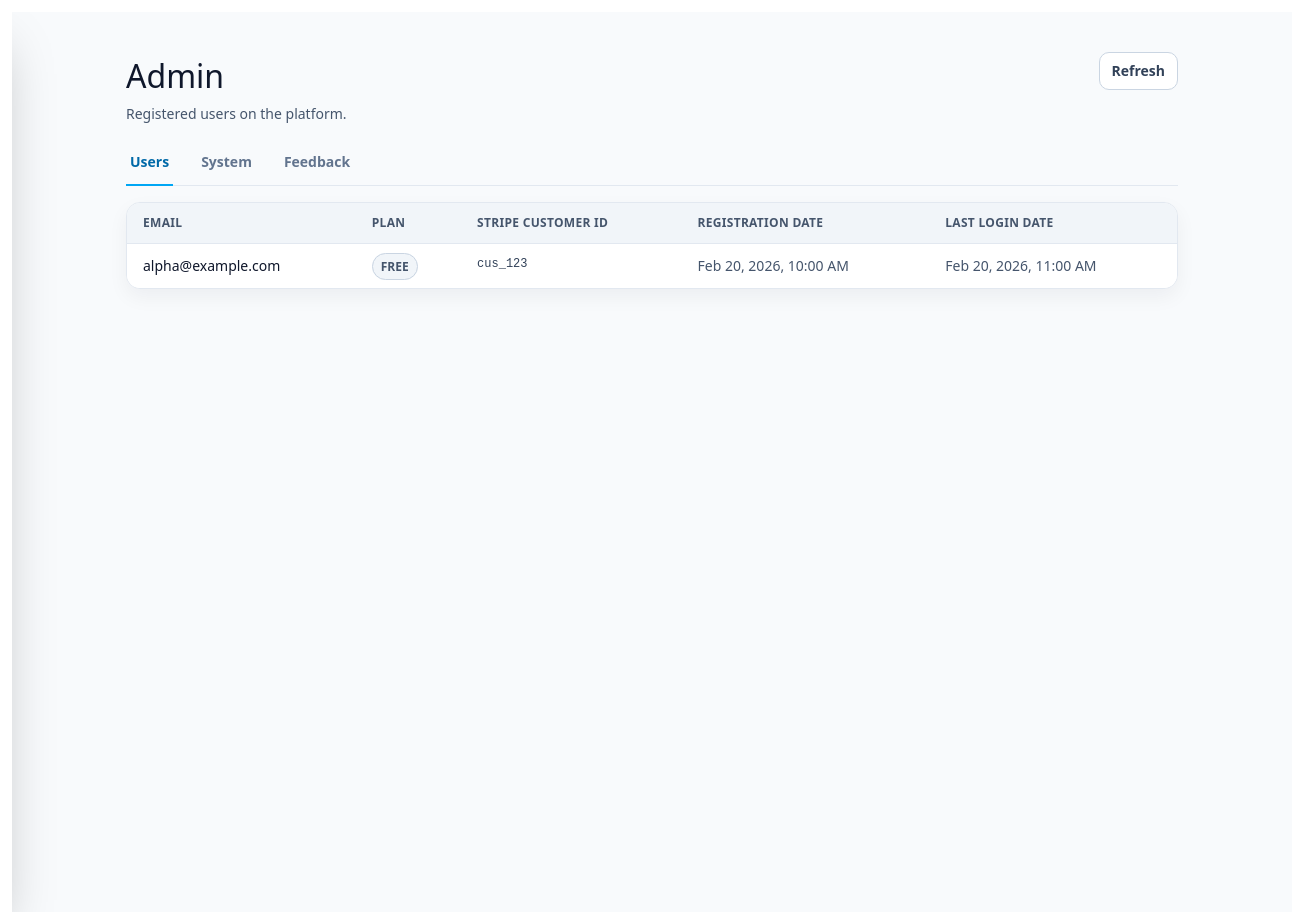
Test: AdminPage drawer actions › shows renew action error feedback without losing list state
The image size is (1304, 912).
Click the button with aria-label "Open user details for alpha@example.com" at (212, 266), box [127,244,1177,288]
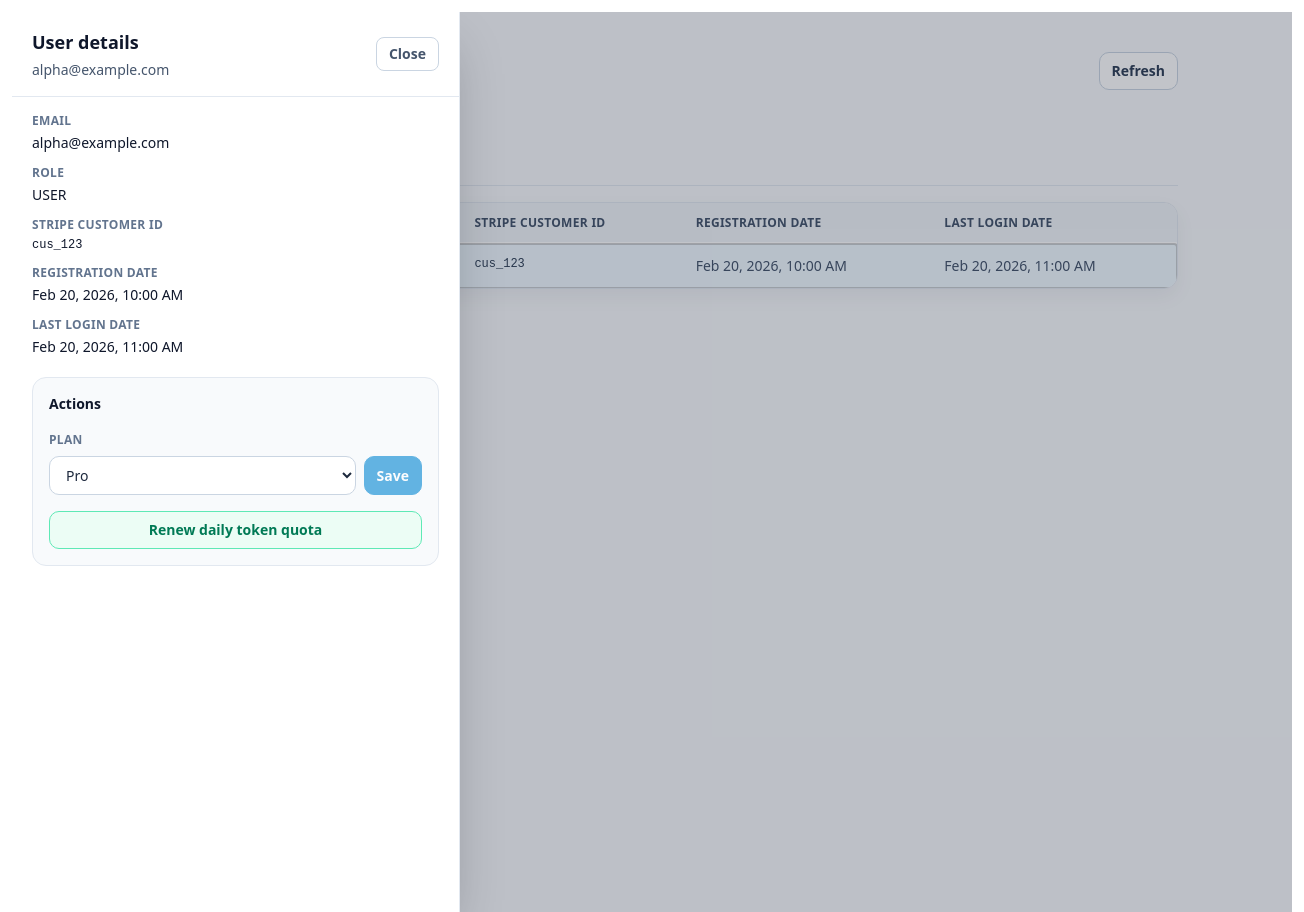
Check: the heading "User details" is shown, box [32,30,139,54]
Click the button "Renew daily token quota" at (236, 530), box [49,511,422,549]
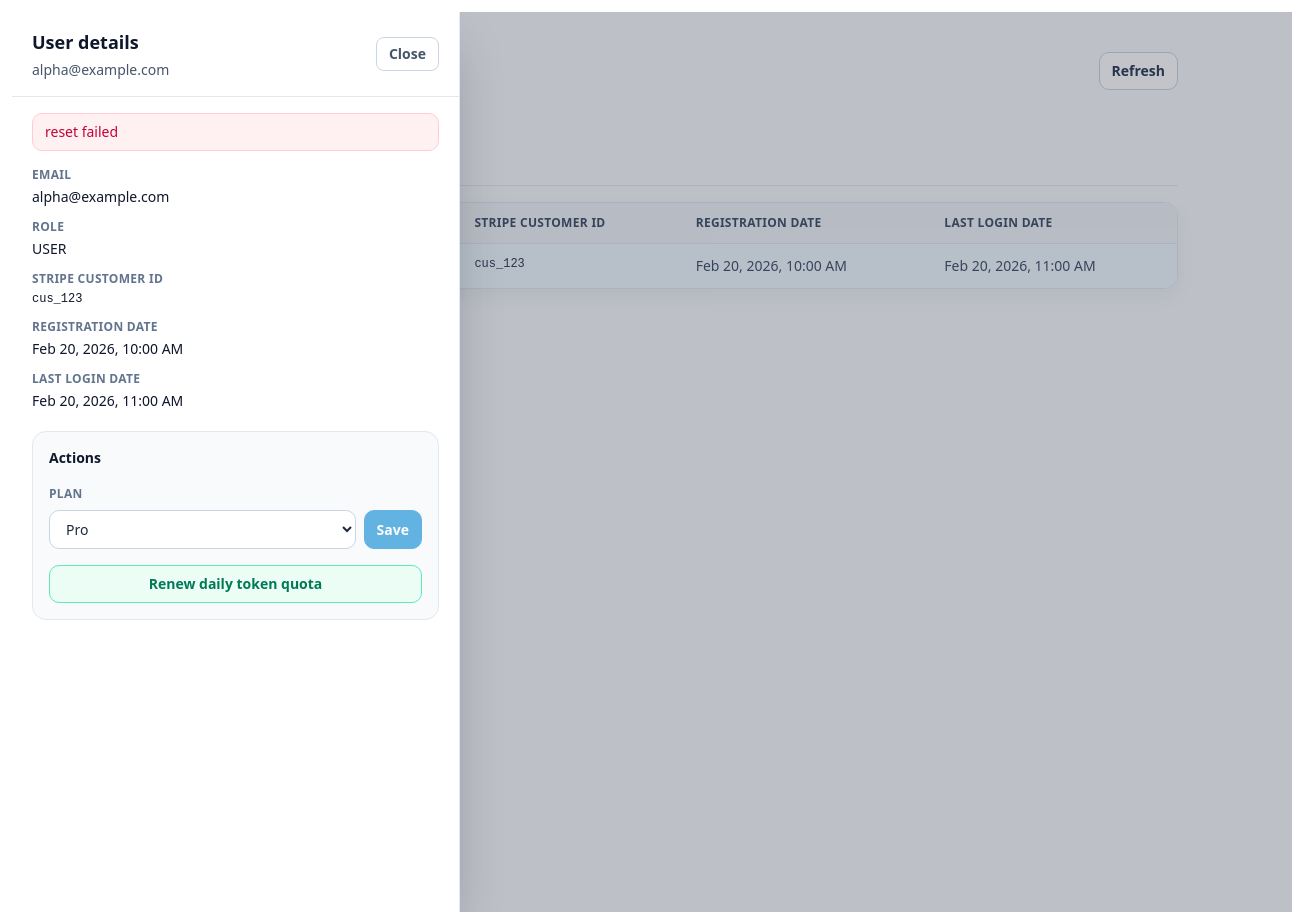
Check: the text "alpha@example.com" is shown, box [127,244,357,288]
Check: the text "reset failed" is shown, box [32,113,439,151]
